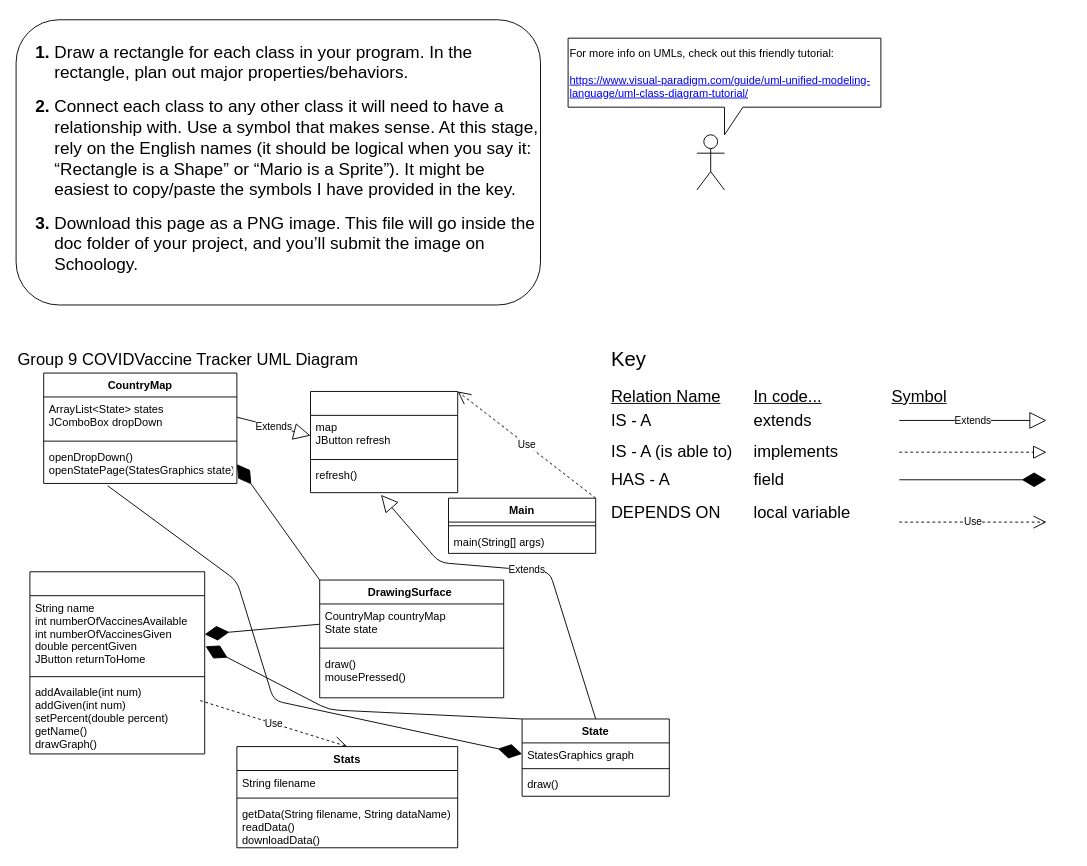
Some shapes in this 1087 by 866 pixel diagram are drawn without their labels. Here are the shapes that lost their labels. From the top down, the box of each, then its label:
(696, 134, 724, 190): Actor
(310, 391, 458, 493): Frame
(29, 571, 205, 754): StatesGraphics
